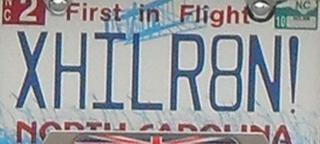placa de veiculo: (3, 1, 319, 144)
